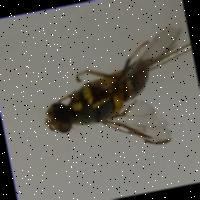Oriental-fruit-fly: (20, 8, 198, 170)
